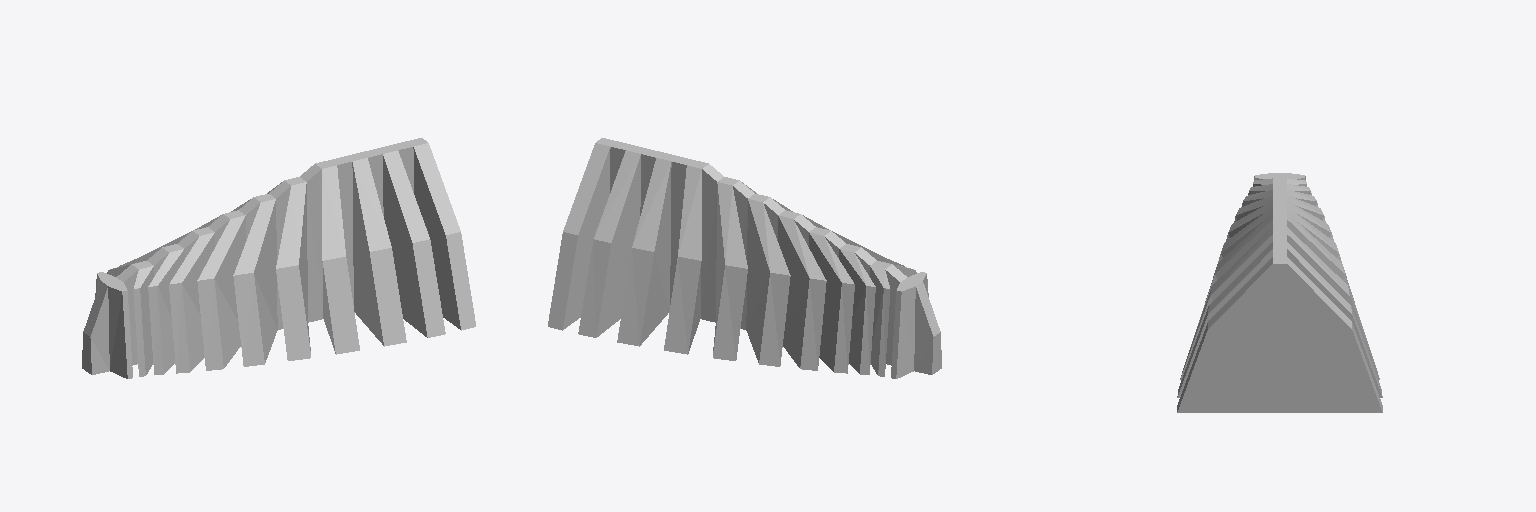
File: Level1_ribs.obj
3 views of the same model, side by side, from view 1: azimuth 30°, elevation 25°; view 2: azimuth 150°, elevation 25°; view 3: azimuth 270°, elevation 25° (orthographic).
Parts seen in each view (by area): view 1: Cube; view 2: Cube; view 3: Cube.
Boxes of the visible parts, box(x1,y1,x2,y2) form: Cube: box(82, 138, 475, 378); Cube: box(548, 138, 941, 378); Cube: box(1177, 173, 1382, 412).
Bounding box in the file's own units: 38 × 16 × 20.